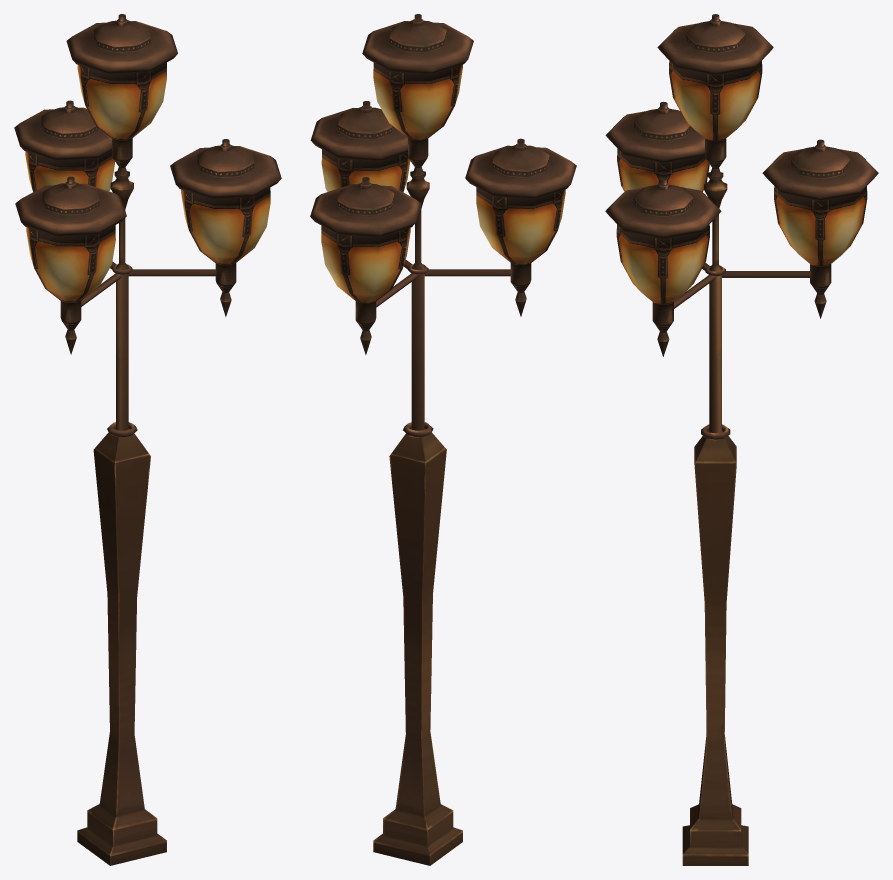
File: Battle04_Light_04.FBX
3 renders of one model, left to right at view 1: azimuth 30°, elevation 25°; view 2: azimuth 150°, elevation 25°; view 3: azimuth 270°, elevation 25°, orthographic.
Parts seen in each view (by area): view 1: Battle04_Light_02; view 2: Battle04_Light_02; view 3: Battle04_Light_02.
Part boxes in pixels (box(x1,y1,x2,y2)): Battle04_Light_02: box(14, 14, 281, 865); Battle04_Light_02: box(310, 14, 576, 865); Battle04_Light_02: box(605, 14, 878, 865).
Size of the model in its own units: 1.91 by 5.95 by 1.76.
